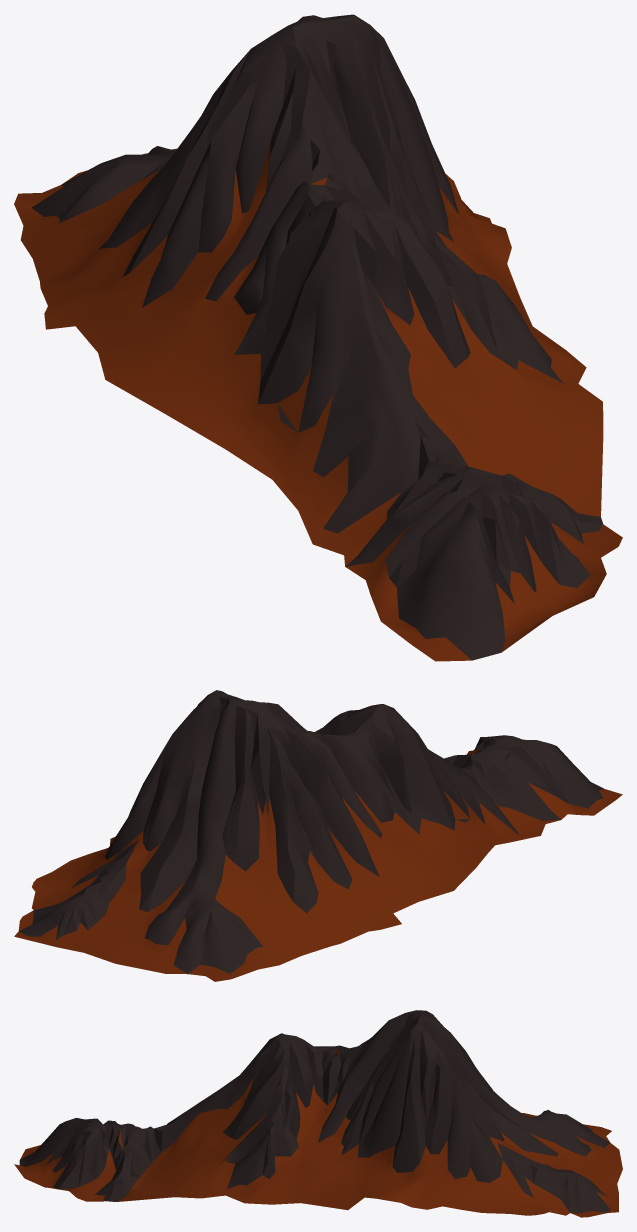
Rendered from SM_Eroded_Mountain_01.fbx.
3 renders of one model, top to bottom at view 1: azimuth 30°, elevation 25°; view 2: azimuth 150°, elevation 25°; view 3: azimuth 270°, elevation 25°, orthographic. The views are drawn at different scales.
Visible parts, largest first — view 1: Group60036; view 2: Group60036; view 3: Group60036.
Part boxes in pixels (bbox=[...]): Group60036: bbox=[14, 14, 622, 661]; Group60036: bbox=[14, 690, 622, 981]; Group60036: bbox=[14, 1010, 622, 1217].
Size of the model in its own units: 713 by 499 by 1400.
